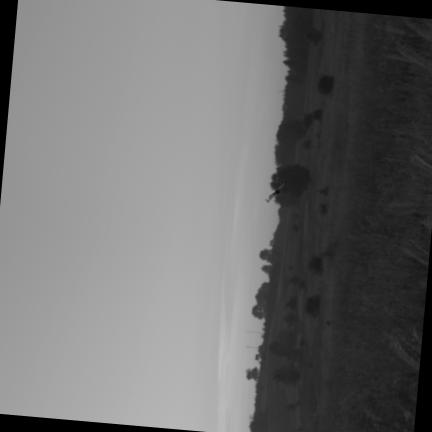Shahed: (266, 179, 286, 202)
